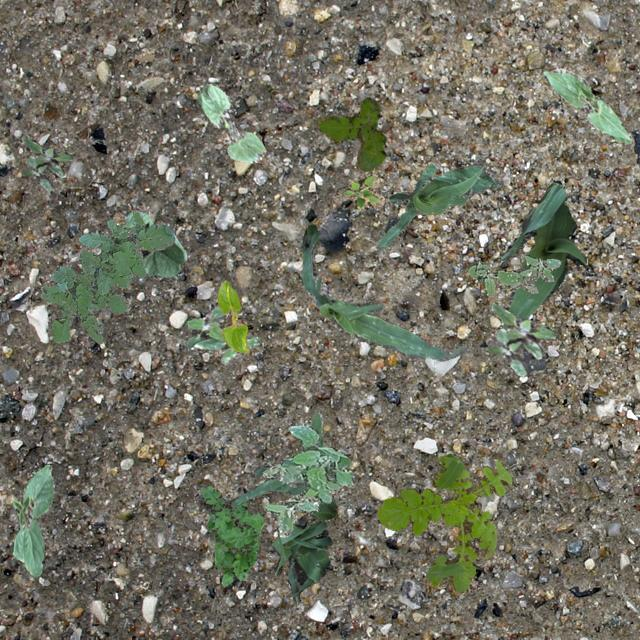crop: (300, 224, 467, 360), (500, 180, 588, 330), (228, 408, 336, 520), (376, 162, 502, 248), (542, 68, 632, 142), (197, 82, 266, 162), (270, 520, 330, 606), (112, 210, 186, 276), (10, 464, 52, 576), (216, 280, 248, 352)
weed: (377, 452, 512, 592), (40, 208, 174, 342), (262, 422, 354, 536), (192, 486, 264, 586), (484, 300, 556, 374), (314, 96, 386, 170), (184, 304, 260, 364), (466, 254, 558, 296), (19, 134, 72, 190), (342, 173, 384, 210)
